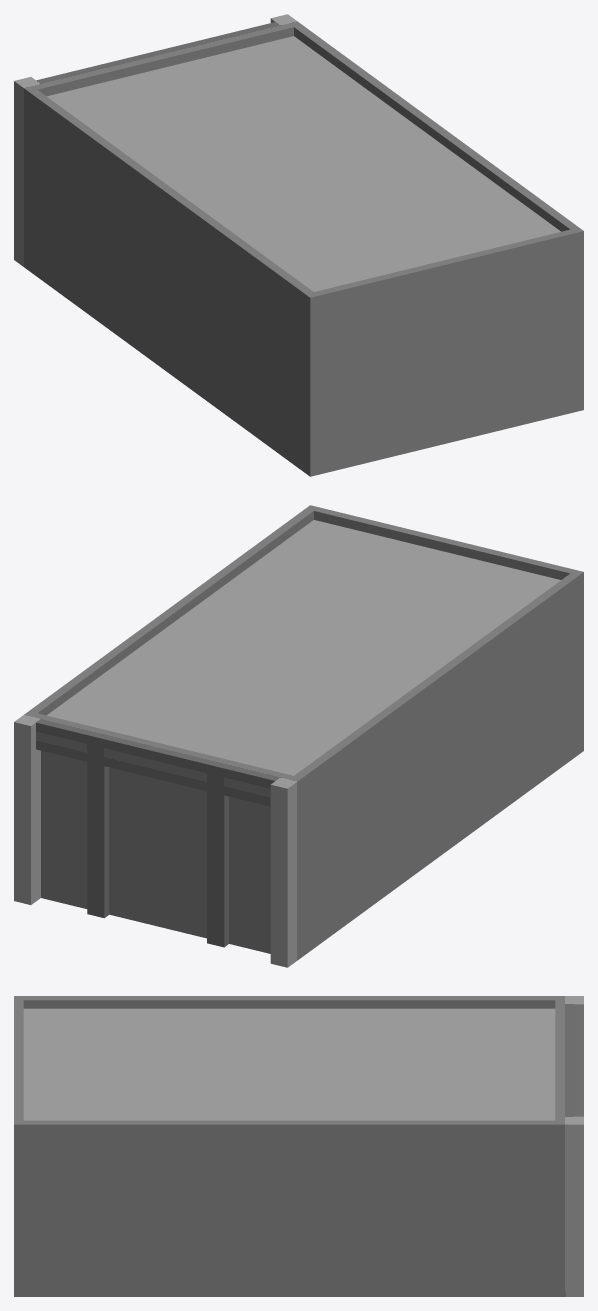
Rendered from obj_story05a.fbx.
3 views of the same model, one above another, from view 1: azimuth 30°, elevation 25°; view 2: azimuth 150°, elevation 25°; view 3: azimuth 270°, elevation 25° (orthographic). The views are drawn at different scales.
Visible parts, largest first — view 1: obj_story05a; view 2: obj_story05a; view 3: obj_story05a.
Part boxes in pixels (left/top/right/bottom): obj_story05a: left=14, top=14, right=583, bottom=476; obj_story05a: left=14, top=505, right=583, bottom=967; obj_story05a: left=14, top=996, right=583, bottom=1296.
Size of the model in its own units: 3.2 by 6 by 2.
Materials: 1 (1 with a texture image).
